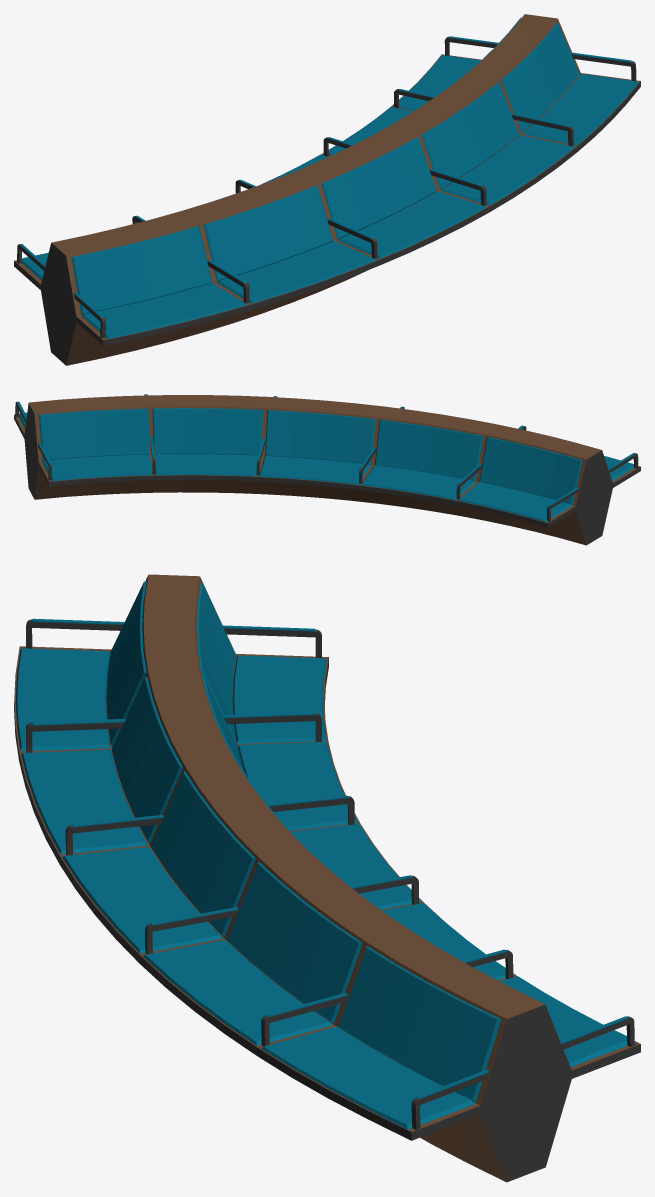
File: M_Bench_0.fbx
The picture shows the model from 3 angles, top to bottom: view 1: azimuth 30°, elevation 25°; view 2: azimuth 150°, elevation 25°; view 3: azimuth 270°, elevation 25°; orthographic projection. The views are drawn at different scales.
Parts seen in each view (by area): view 1: M_Bench_0; view 2: M_Bench_0; view 3: M_Bench_0.
Boxes of the visible parts, box(x1,y1,x2,y2) form: M_Bench_0: box(14, 14, 640, 365); M_Bench_0: box(14, 394, 640, 545); M_Bench_0: box(14, 574, 640, 1182).
Bounding box in the file's own units: 2494 × 392 × 1361.
